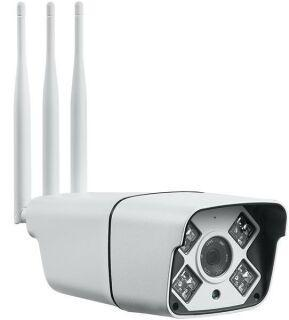tutu: (21, 185, 289, 320)
